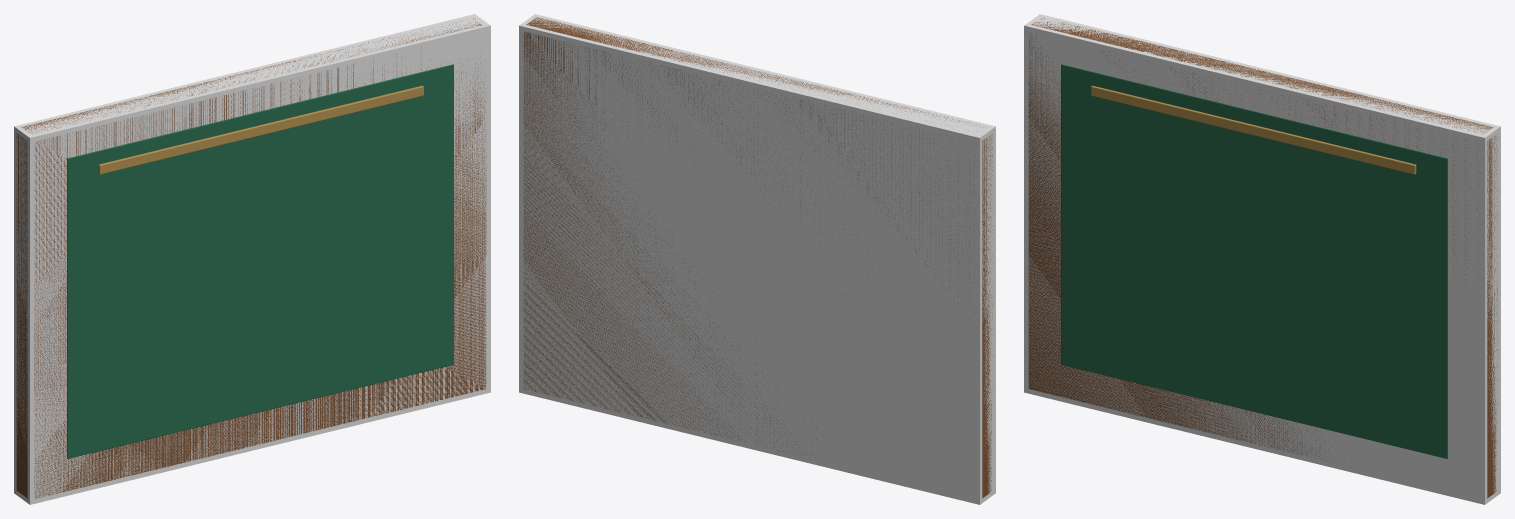
The model's file is wall-art_boutique.glb.
3 renders of one model, left to right at view 1: azimuth 30°, elevation 25°; view 2: azimuth 150°, elevation 25°; view 3: azimuth 330°, elevation 25°, orthographic.
Visible parts, largest first — view 1: MESH_Inset, COL_wall-art, MESH_Frame, MESH_TierTrim_01; view 2: COL_wall-art, MESH_Frame; view 3: MESH_Inset, COL_wall-art, MESH_Frame, MESH_TierTrim_01.
Boxes of the visible parts, x1,y1,x2,y2 form: MESH_Inset: (67, 64, 453, 458); COL_wall-art: (14, 14, 490, 504); MESH_Frame: (16, 19, 486, 498); MESH_TierTrim_01: (98, 85, 423, 174); COL_wall-art: (519, 14, 995, 504); MESH_Frame: (523, 17, 993, 498); MESH_Inset: (1061, 64, 1447, 458); COL_wall-art: (1024, 14, 1500, 504); MESH_Frame: (1028, 18, 1498, 498); MESH_TierTrim_01: (1091, 85, 1416, 174).
Bounding box in the file's own units: 0.92 × 0.7 × 0.0603.
